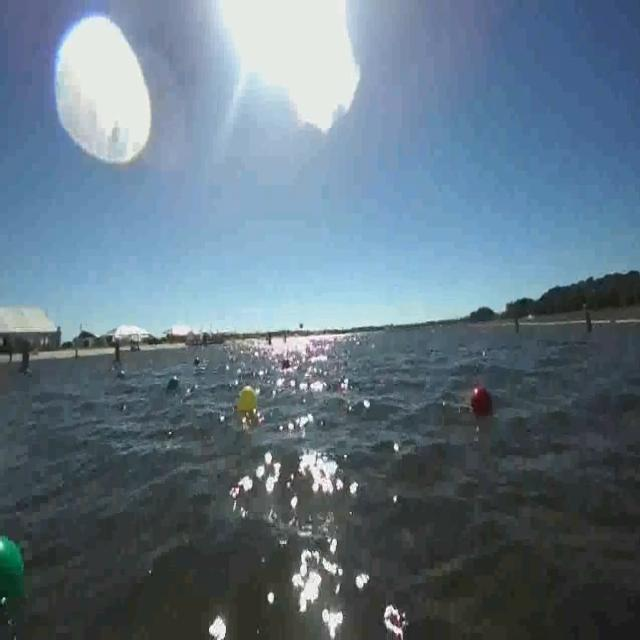green-buoy: (0, 533, 26, 594)
red-buoy: (468, 385, 495, 422)
yellow-buoy: (234, 381, 256, 413)
